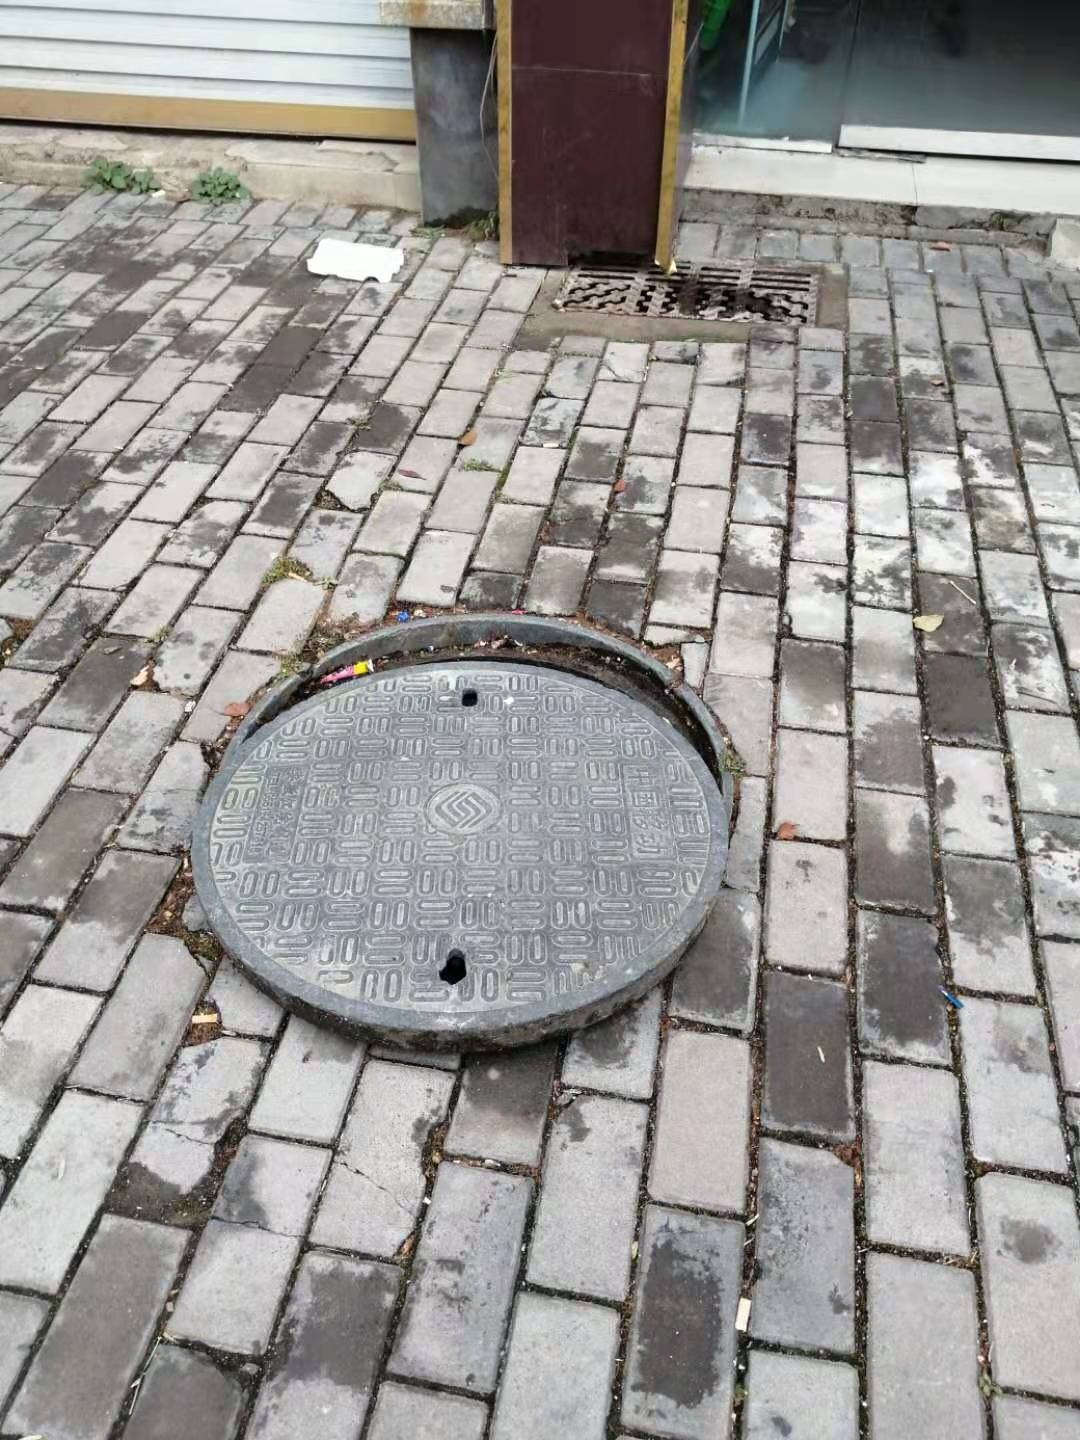well: (191, 609, 751, 1043)
